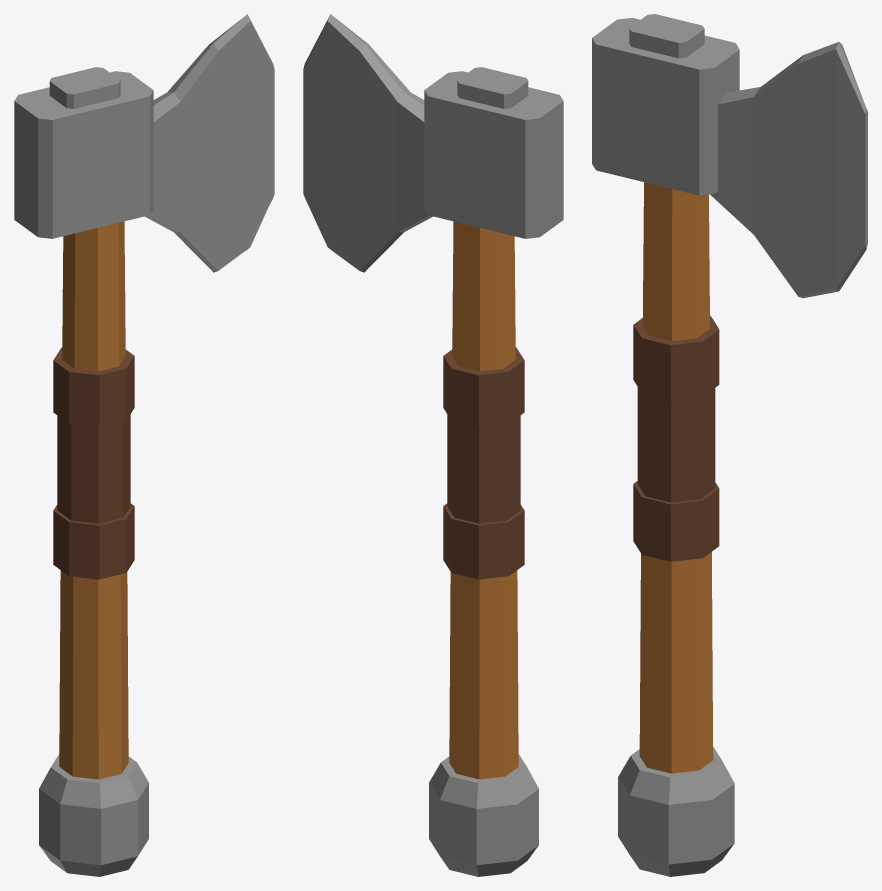
Rendered from prop-axe-berserker-r.glb.
The picture shows the model from 3 angles, left to right: view 1: azimuth 30°, elevation 25°; view 2: azimuth 150°, elevation 25°; view 3: azimuth 330°, elevation 25°; orthographic projection. The views are drawn at different scales.
Parts seen in each view (by area): view 1: axe-berserker-r; view 2: axe-berserker-r; view 3: axe-berserker-r.
Boxes of the visible parts, box(x1,y1,x2,y2) form: axe-berserker-r: box(14, 14, 274, 876); axe-berserker-r: box(303, 14, 563, 876); axe-berserker-r: box(592, 14, 867, 876).
Size of the model in its own units: 0.216 by 0.6742 by 0.0776.
1 material, 1 textured.
